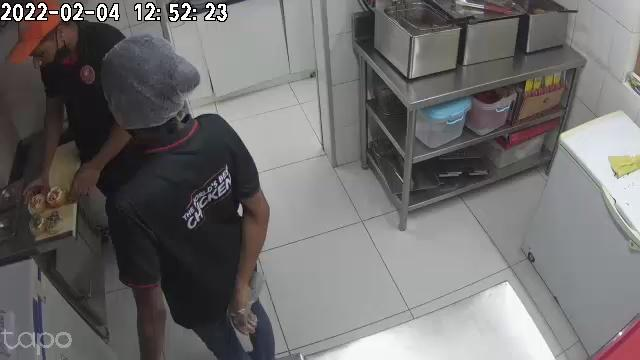no_gloves: (67, 151, 105, 204)
